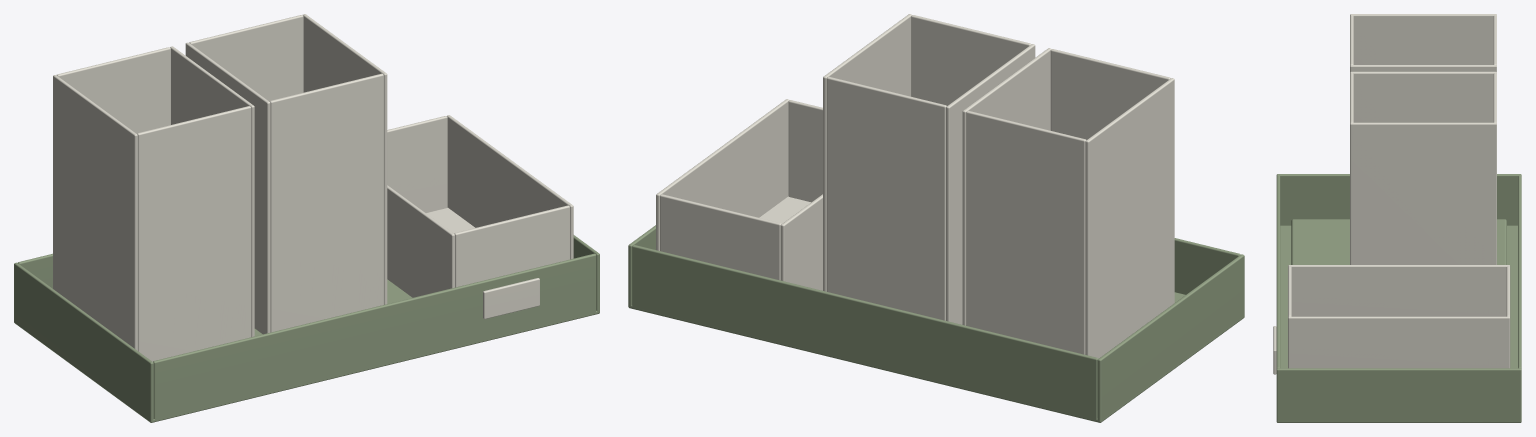
The model's file is bathroom-organizer.glb.
3 views of the same model, side by side, from view 1: azimuth 30°, elevation 25°; view 2: azimuth 150°, elevation 25°; view 3: azimuth 270°, elevation 25° (orthographic). The views are drawn at different scales.
Visible parts, largest first — view 1: Removable tall cup front.001, Removable tall cup front, Open organizer base front, Removable tall cup left, Open organizer base left, Dry item tray right, Dry item tray front, Removable tall cup back.001, Removable tall cup back, Dry item tray left, Removable tall cup left.001, Dry item tray back (+7 smaller); view 2: Open organizer base back, Removable tall cup back.001, Removable tall cup back, Removable tall cup left, Open organizer base left, Dry item tray right, Dry item tray back, Removable tall cup front, Removable tall cup front.001, Removable tall cup left.001, Removable tall cup right, Removable tall cup right.001 (+6 smaller); view 3: Removable tall cup right.001, Open organizer base right, Dry item tray right, Dry item tray left, Removable tall cup left.001, Removable tall cup left, Open organizer base left, Removable drip insert, Open organizer base floor, Removable tall cup right, Open organizer base front, Open organizer base back (+1 smaller).
Part boxes in pixels (x1,y1,x2,y2): Removable tall cup front.001: [269, 73, 383, 332]; Removable tall cup front: [137, 106, 251, 361]; Open organizer base front: [153, 253, 596, 421]; Removable tall cup left: [53, 75, 137, 350]; Open organizer base left: [14, 262, 153, 421]; Dry item tray right: [447, 115, 573, 259]; Dry item tray front: [454, 205, 569, 287]; Removable tall cup back.001: [189, 15, 303, 101]; Removable tall cup back: [57, 47, 170, 133]; Dry item tray left: [387, 185, 454, 297]; Removable tall cup left.001: [185, 42, 270, 334]; Dry item tray back: [387, 116, 447, 212]; Open organizer base back: [632, 245, 1098, 421]; Removable tall cup back.001: [826, 76, 946, 320]; Removable tall cup back: [966, 110, 1086, 354]; Removable tall cup left: [1085, 78, 1174, 358]; Open organizer base left: [1097, 254, 1244, 421]; Dry item tray right: [656, 99, 789, 250]; Dry item tray back: [660, 194, 781, 280]; Removable tall cup front: [1050, 49, 1170, 139]; Removable tall cup front.001: [911, 15, 1031, 105]; Removable tall cup left.001: [946, 44, 1035, 324]; Removable tall cup right: [962, 48, 1051, 325]; Removable tall cup right.001: [823, 14, 911, 291]; Removable tall cup right.001: [1350, 122, 1496, 264]; Open organizer base right: [1276, 368, 1521, 421]; Dry item tray right: [1288, 316, 1510, 368]; Dry item tray left: [1288, 265, 1510, 316]; Removable tall cup left.001: [1350, 71, 1496, 122]; Removable tall cup left: [1350, 14, 1496, 64]; Open organizer base left: [1276, 174, 1521, 225]; Removable drip insert: [1291, 219, 1506, 264]; Open organizer base floor: [1276, 225, 1521, 422]; Removable tall cup right: [1350, 65, 1496, 72]; Open organizer base front: [1276, 175, 1280, 368]; Open organizer base back: [1518, 175, 1521, 368].
Bounding box in the file's own units: 0.28 × 0.15 × 0.15.
